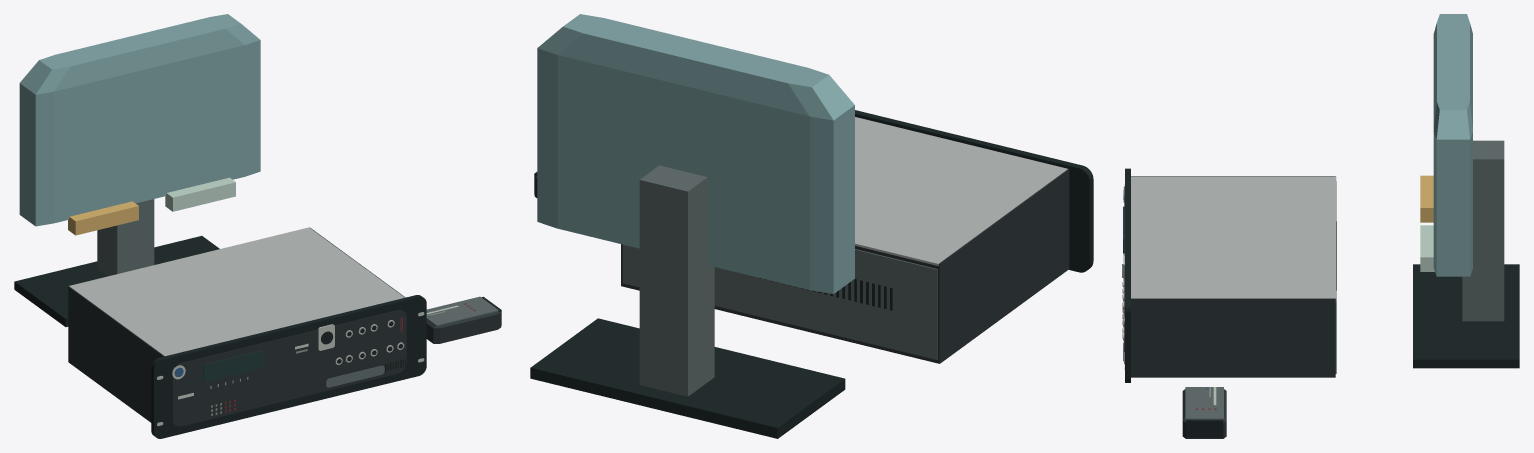
The model's file is rz6-ra4pa-exteriors.glb.
3 renders of one model, left to right at view 1: azimuth 30°, elevation 25°; view 2: azimuth 150°, elevation 25°; view 3: azimuth 270°, elevation 25°, orthographic. The views are drawn at different scales.
Visible parts, largest first — view 1: Offline_reader_screen_case, RZ6_sheet_top, Nominal_RZ6_rack_face_19in_3U, Face_plate_partition_left, RZ6_unpowered_chassis_closed, Face_plate_partition_right, Offline_reader_base, Offline_reader_post, Medusa_case_estimate, Recompute_from_fixed_file, Cycle_offline_threshold, Medusa_top_plate (+2 smaller); view 2: Offline_reader_screen_case, RZ6_sheet_top, Offline_reader_base, Offline_reader_post, RZ6_unpowered_chassis_closed, Closed_rear_back, Nominal_RZ6_rack_face_19in_3U; view 3: RZ6_sheet_top, RZ6_unpowered_chassis_closed, Offline_reader_screen_case, Offline_reader_base, Offline_reader_post, Nominal_RZ6_rack_face_19in_3U, Medusa_top_plate, Medusa_blank_sidecap, Recompute_from_fixed_file, Cycle_offline_threshold, Medusa_case_estimate.
Boxes of the visible parts, left/top/right/bottom form: Offline_reader_screen_case: left=19, top=14, right=260, bottom=226; RZ6_sheet_top: left=69, top=227, right=404, bottom=356; Nominal_RZ6_rack_face_19in_3U: left=151, top=295, right=426, bottom=438; Face_plate_partition_left: left=172, top=332, right=316, bottom=426; RZ6_unpowered_chassis_closed: left=68, top=227, right=405, bottom=422; Face_plate_partition_right: left=308, top=310, right=406, bottom=395; Offline_reader_base: left=14, top=236, right=219, bottom=326; Offline_reader_post: left=97, top=199, right=154, bottom=276; Medusa_case_estimate: left=426, top=311, right=501, bottom=343; Recompute_from_fixed_file: left=68, top=201, right=138, bottom=235; Cycle_offline_threshold: left=165, top=177, right=235, bottom=211; Medusa_top_plate: left=426, top=296, right=498, bottom=326; Offline_reader_screen_case: left=537, top=14, right=854, bottom=293; RZ6_sheet_top: left=855, top=117, right=1067, bottom=265; Offline_reader_base: left=530, top=318, right=845, bottom=438; Offline_reader_post: left=639, top=165, right=714, bottom=396; RZ6_unpowered_chassis_closed: left=621, top=169, right=1069, bottom=363; Closed_rear_back: left=622, top=244, right=937, bottom=359; Nominal_RZ6_rack_face_19in_3U: left=855, top=110, right=1093, bottom=272; RZ6_sheet_top: left=1131, top=176, right=1336, bottom=299; RZ6_unpowered_chassis_closed: left=1131, top=176, right=1335, bottom=377; Offline_reader_screen_case: left=1433, top=14, right=1472, bottom=276; Offline_reader_base: left=1413, top=264, right=1519, bottom=368; Offline_reader_post: left=1462, top=140, right=1504, bottom=321; Nominal_RZ6_rack_face_19in_3U: left=1125, top=168, right=1130, bottom=382; Medusa_top_plate: left=1185, top=387, right=1223, bottom=419; Medusa_blank_sidecap: left=1186, top=419, right=1223, bottom=437; Recompute_from_fixed_file: left=1420, top=175, right=1433, bottom=222; Cycle_offline_threshold: left=1420, top=225, right=1434, bottom=271; Medusa_case_estimate: left=1182, top=389, right=1226, bottom=438.
Size of the model in its own units: 0.6668 by 0.42 by 0.5847.
